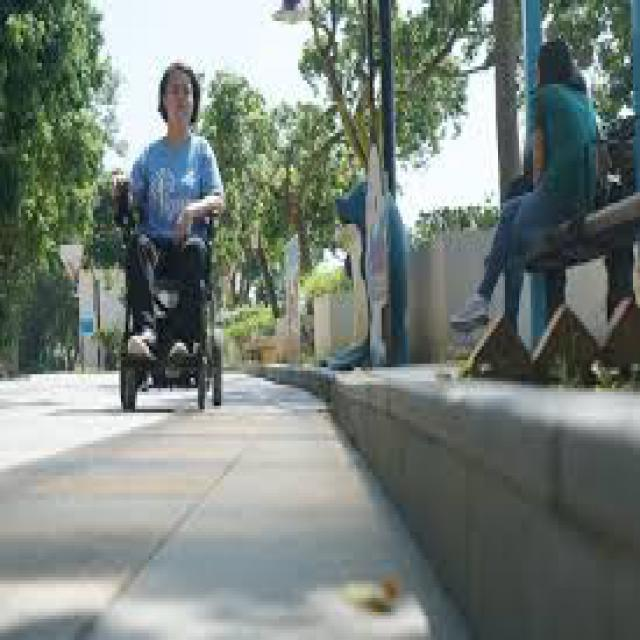wheelchairs: (102, 171, 228, 406)
